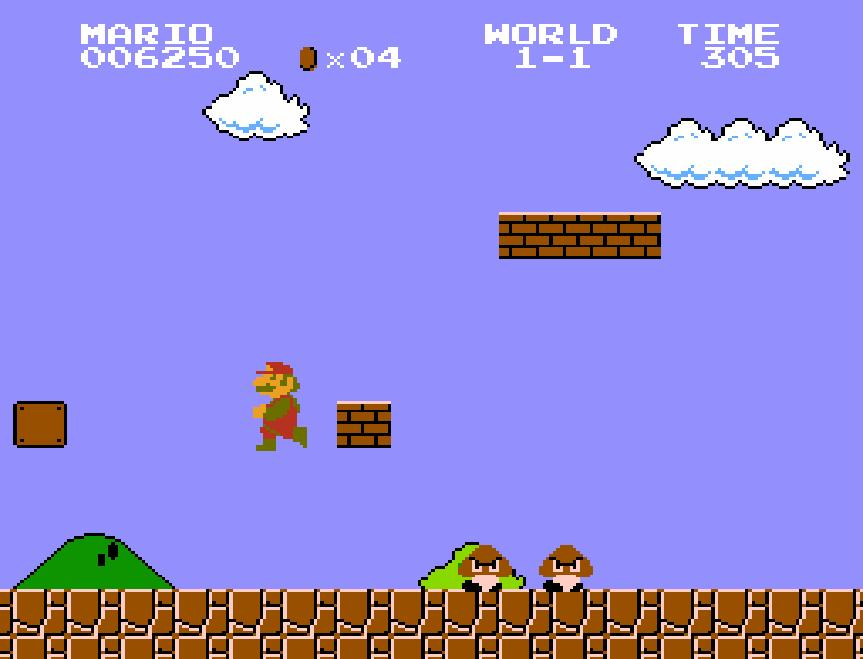big_mario: (250, 354, 308, 452)
